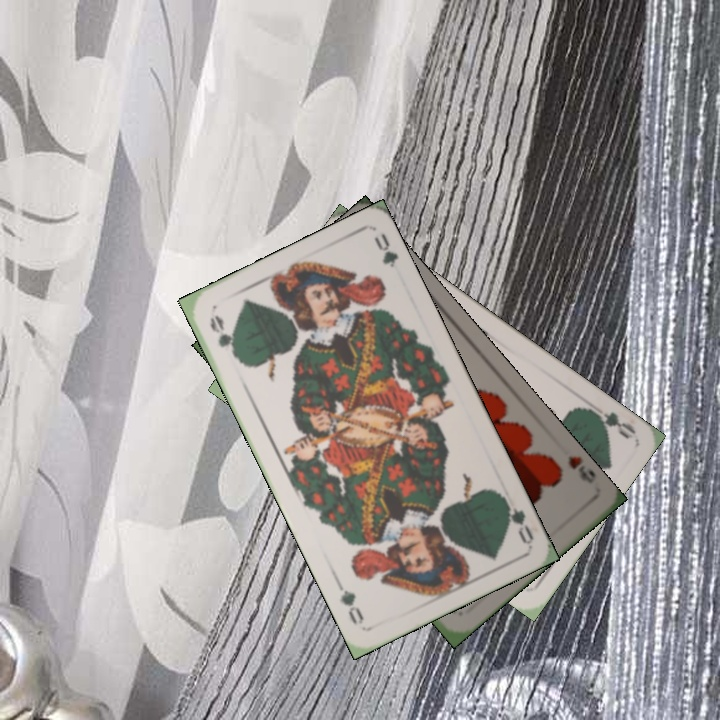GO: (496, 491, 537, 546), (581, 404, 638, 442), (205, 311, 243, 363)
H9: (564, 451, 598, 486)
